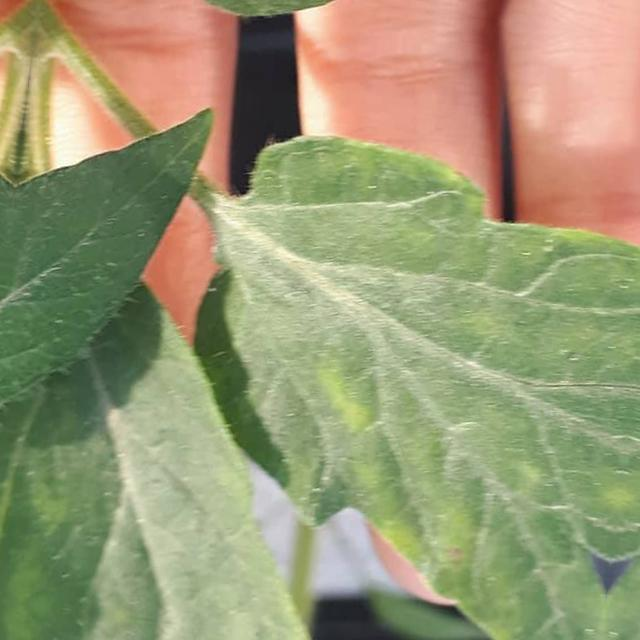Tomato mold leaf: (135, 146, 640, 640), (0, 46, 228, 559), (37, 0, 640, 94)
